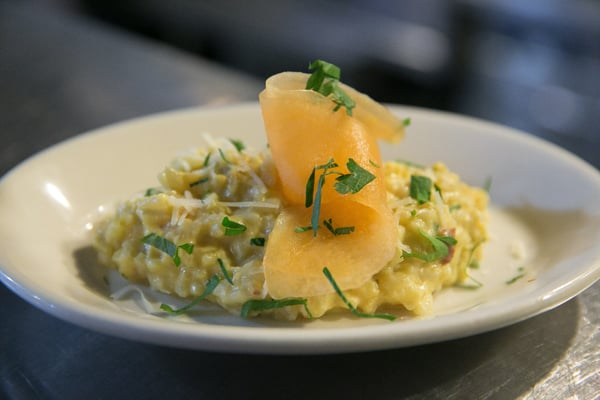sushi: (1, 89, 589, 357)
